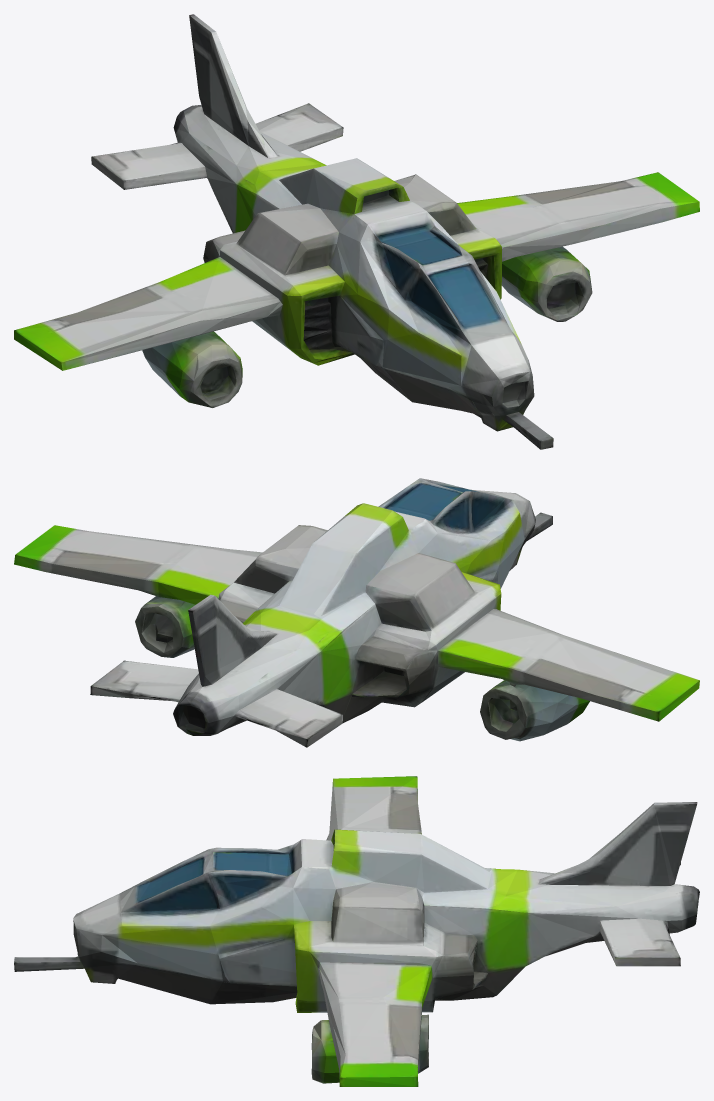
The model's file is ship-ai.glb.
3 renders of one model, top to bottom at view 1: azimuth 30°, elevation 25°; view 2: azimuth 150°, elevation 25°; view 3: azimuth 270°, elevation 25°, orthographic. The views are drawn at different scales.
Parts seen in each view (by area): view 1: geometry_0; view 2: geometry_0; view 3: geometry_0.
Part boxes in pixels (x1,y1,x2,y2): geometry_0: (14, 14, 699, 449); geometry_0: (14, 478, 699, 747); geometry_0: (14, 776, 699, 1086).
Bounding box in the file's own units: 0.9963 × 0.3042 × 0.9565.
1 material, 1 textured.
